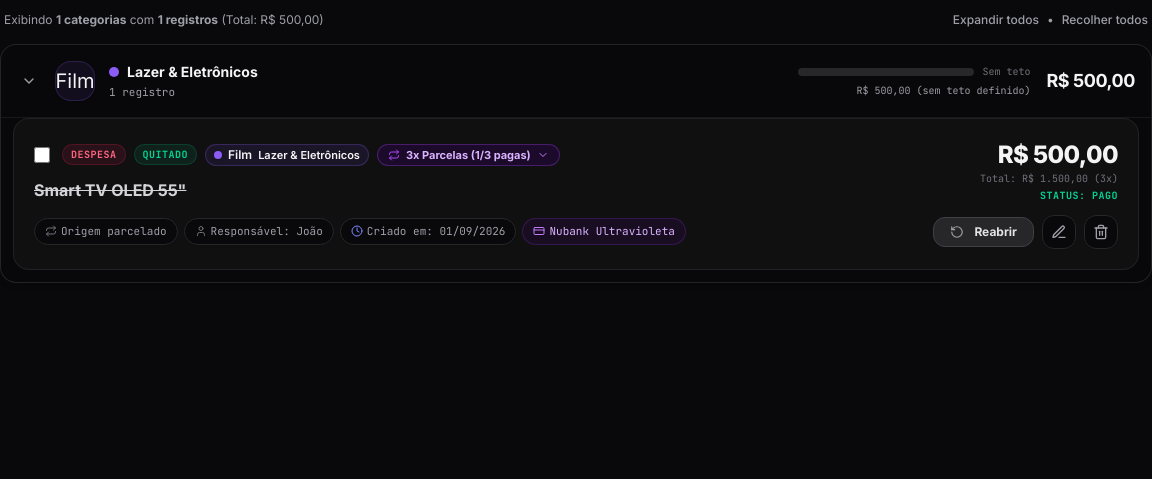
Scenario: Gestão de Gastos Parcelados & Critérios 001 e 002 › Critério 001: Mensagem de confirmação ao realizar operação em parcela/fatura › minimiza as parcelas filhas ao clicar novamente
Click the button "3x Parcelas (1/3 pagas)".
click(468, 155)  # box [377, 144, 560, 166]
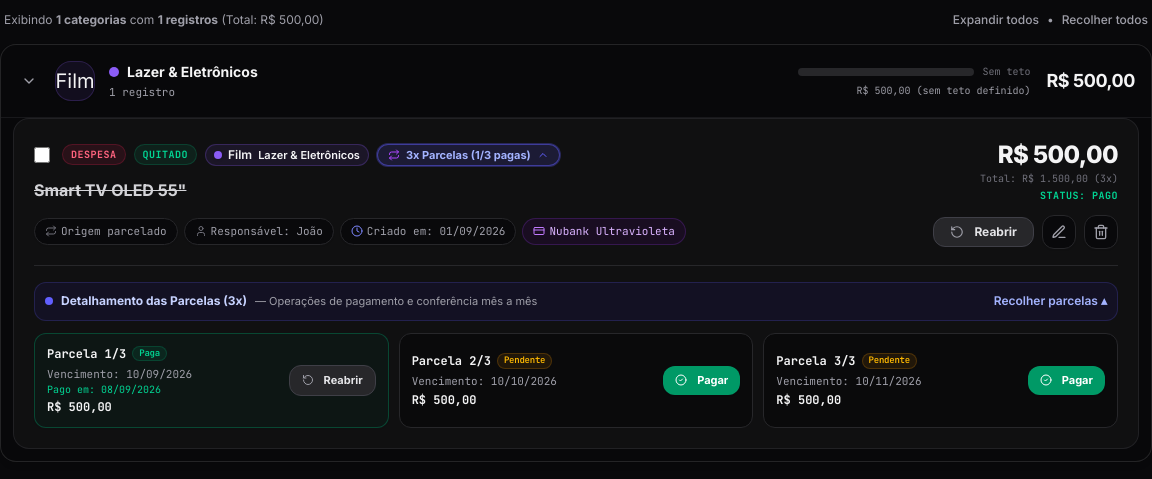
Result: the text "Parcela 2/3" is shown at [412, 353, 491, 369]
Click the button "3x Parcelas (1/3 pagas)".
click(468, 155)  # box [377, 144, 560, 166]
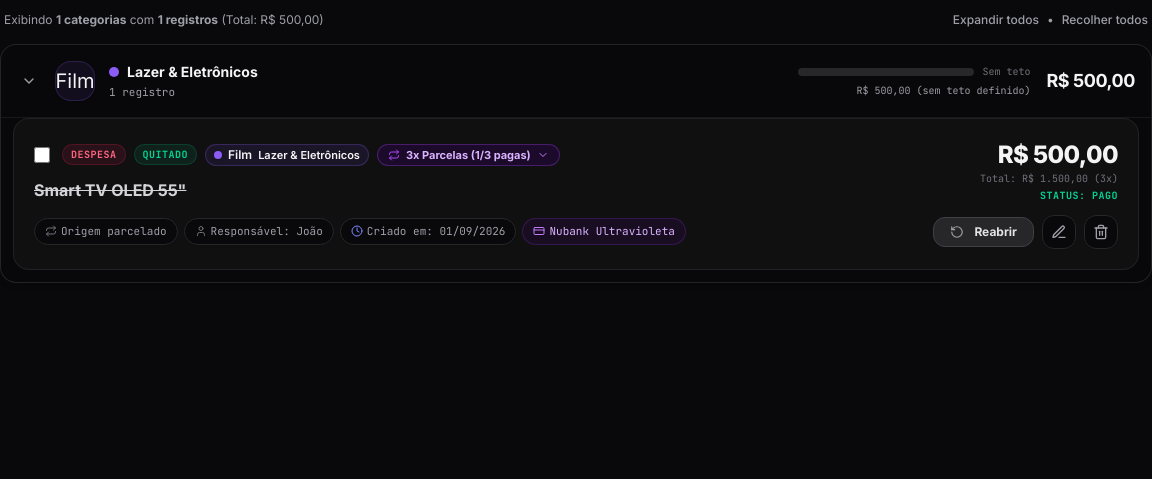
Result: the text "Parcela 2/3" is gone
